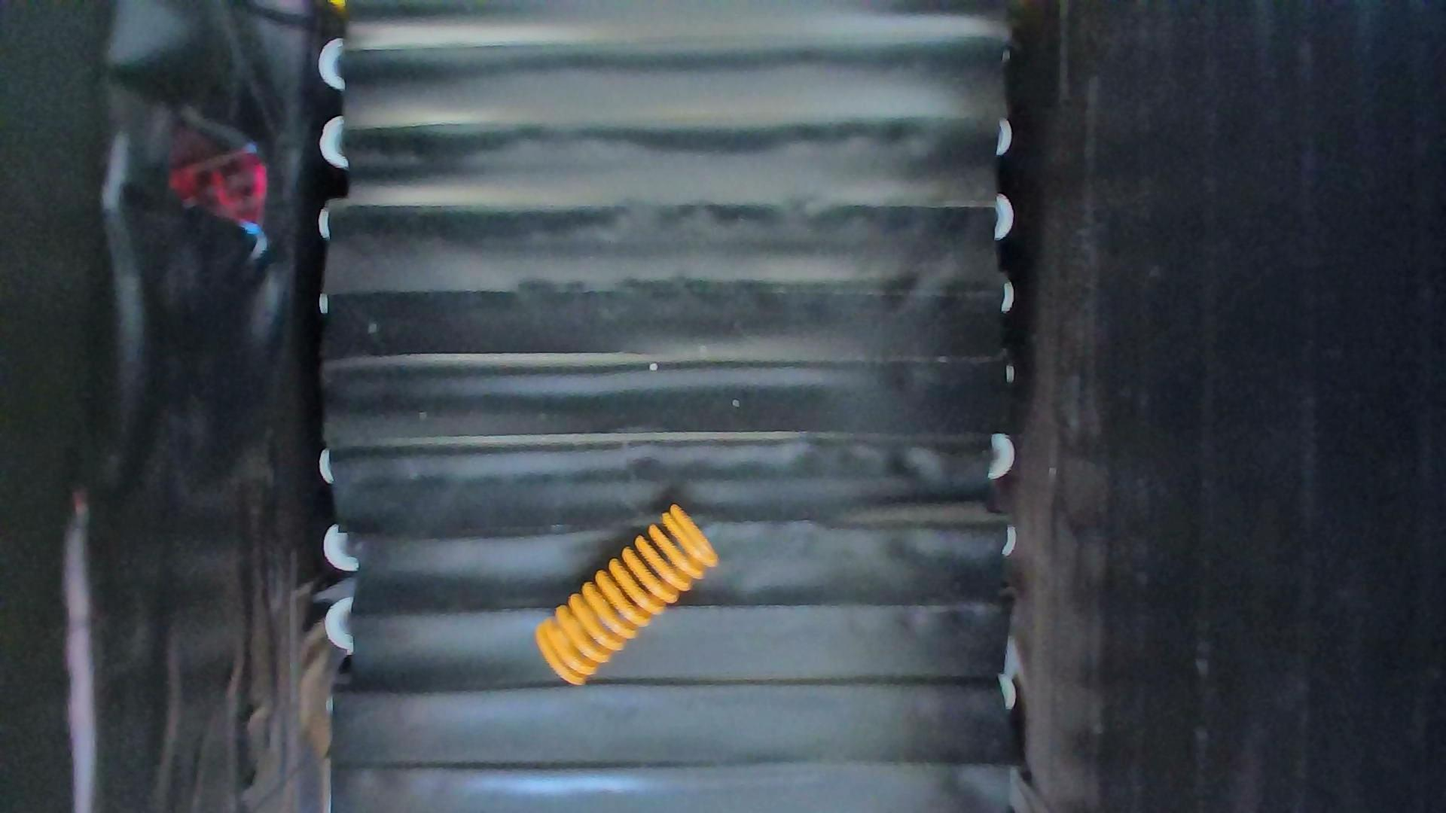spring: (532, 505, 719, 689)
